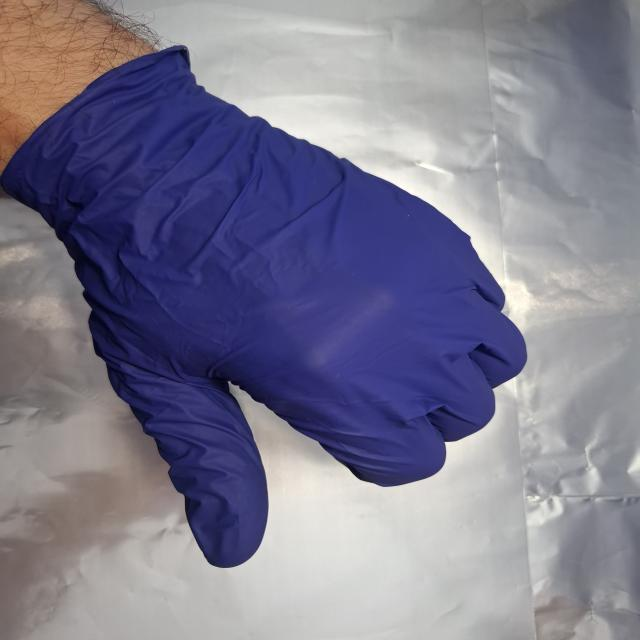glove_on: (7, 41, 533, 572)
